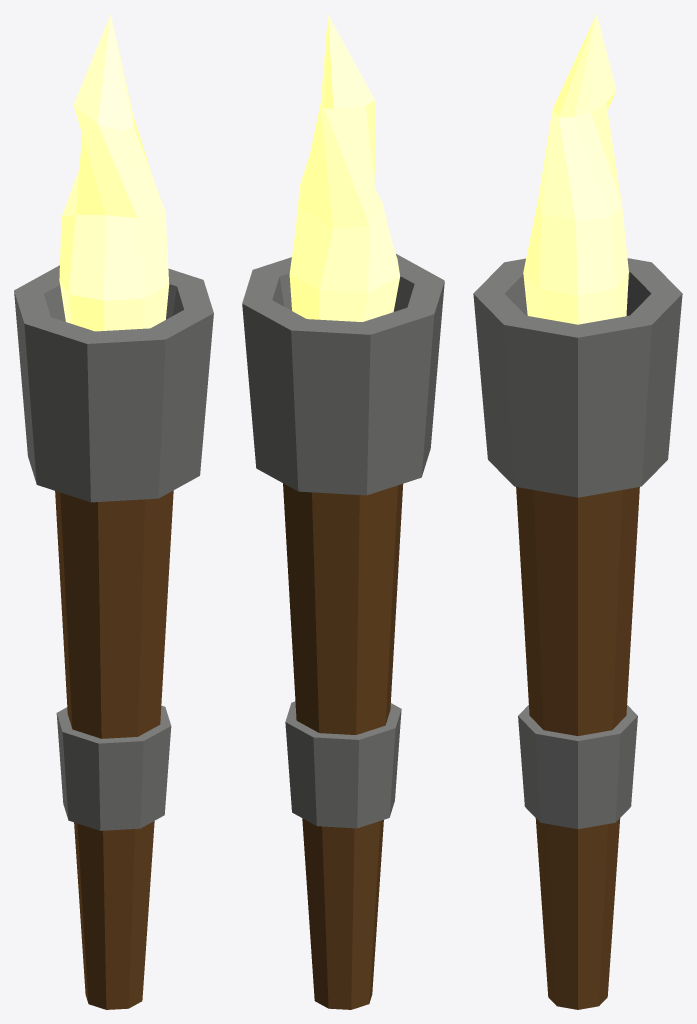
File: Torch.glb
3 views of the same model, side by side, from view 1: azimuth 30°, elevation 25°; view 2: azimuth 150°, elevation 25°; view 3: azimuth 270°, elevation 25° (orthographic).
Visible parts, largest first — view 1: Torch; view 2: Torch; view 3: Torch.
Part boxes in pixels (x1=…): Torch: x1=14, y1=14, x2=213, y2=1009; Torch: x1=242, y1=14, x2=444, y2=1009; Torch: x1=473, y1=14, x2=682, y2=1009.
Bounding box in the file's own units: 0.2589 × 1.35 × 0.2589.
